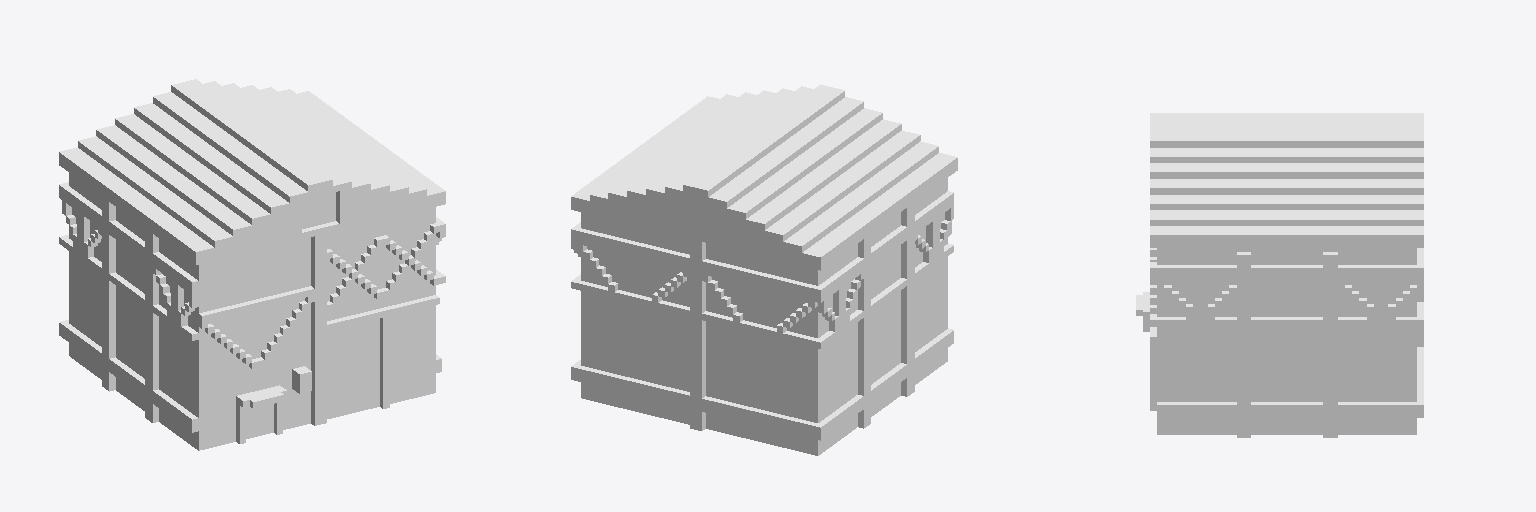
File: house4.obj
3 renders of one model, left to right at view 1: azimuth 30°, elevation 25°; view 2: azimuth 150°, elevation 25°; view 3: azimuth 270°, elevation 25°, orthographic.
Parts seen in each view (by area): view 1: object 1; view 2: object 1; view 3: object 1.
Part boxes in pixels (left/top/right/bottom): object 1: left=59, top=79, right=445, bottom=450; object 1: left=571, top=84, right=957, bottom=455; object 1: left=1136, top=113, right=1423, bottom=437.
Size of the model in its own units: 4 by 3.7 by 4.